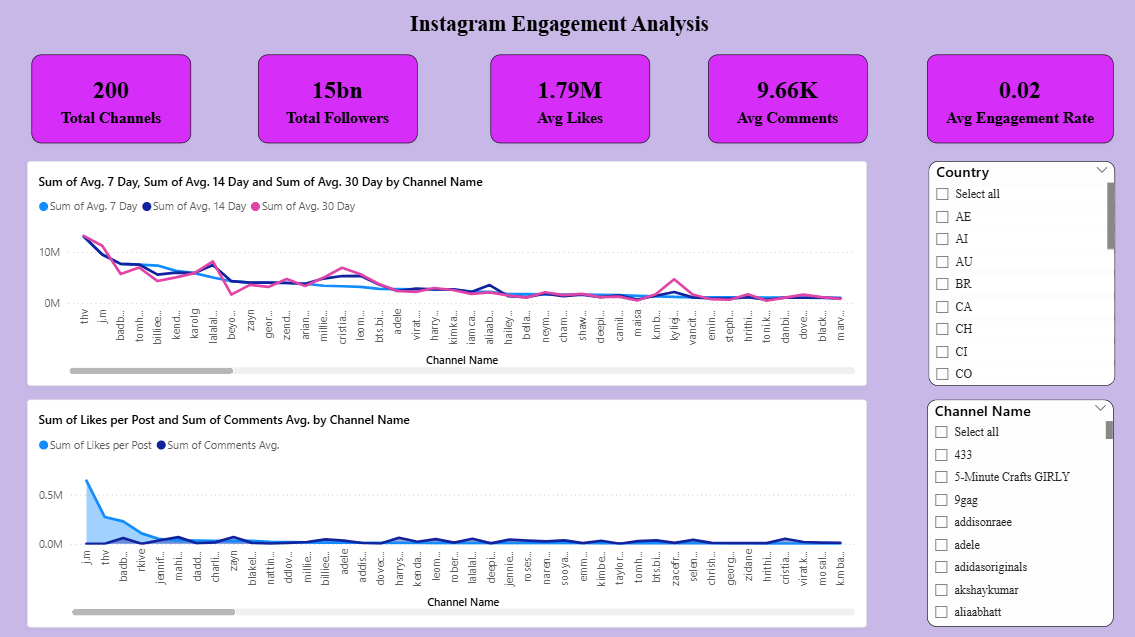

The dashboard page shown, as its layout file describes it:
{"tool":"powerbi","page":{"name":"Page 2","canvas":[1280,720],"ordinal":1},"visuals":[{"type":"lineChart","fields":{"Category":["Instagram_data.Channel Name"],"Y":["Sum(Instagram_data.Avg. 7 Day)","Sum(Instagram_data.Avg. 14 Day)","Sum(Instagram_data.Avg. 30 Day)"]},"box":[36.7,186.7,933.3,250],"z":0},{"type":"areaChart","fields":{"Category":["Instagram_data.Channel Name"],"Y":["Sum(Instagram_data.Likes per Post)","Sum(Instagram_data.Comments Avg.)"]},"box":[36.7,451.7,933.3,253.3],"z":1000},{"type":"slicer","fields":{"Values":["Instagram_data.Country"]},"box":[1038.7,186.2,207.4,249.8],"z":1001},{"type":"slicer","fields":{"Values":["Instagram_data.Channel Name"]},"box":[1037.2,451.2,207.4,252.9],"z":1002},{"type":"card","fields":{"Values":["Instagram_data.Total Channels"]},"box":[40.9,68.1,177.2,98.4],"z":1003},{"type":"card","title":"Folloers","fields":{"Values":["Instagram_data.Total Followers"]},"box":[293.8,68.1,177.2,98.4],"z":1004},{"type":"card","title":"Folloers","fields":{"Values":["Instagram_data.Avg Likes"]},"box":[551.2,68.1,177.2,98.4],"z":1005},{"type":"card","title":"Folloers","fields":{"Values":["Instagram_data.Avg Comments"]},"box":[793.4,68.1,177.2,98.4],"z":1006},{"type":"card","title":"Folloers","fields":{"Values":["Instagram_data.Avg Engagement Rate"]},"box":[1037.2,68.1,207.4,98.4],"z":1007},{"type":"textbox","box":[421.7,15,413.3,53.3],"z":1008}]}

Visuals, with their boxes in screenshot pixels (x1, y1, x2, y2), scaled from the page's 1280x720 canvas onto the 1135x637 screenshot:
lineChart - Instagram_data.Channel Name x Sum(Instagram_data.Avg. 7 Day): <bbox>33, 165, 860, 386</bbox>
areaChart - Instagram_data.Channel Name x Sum(Instagram_data.Likes per Post): <bbox>33, 400, 860, 624</bbox>
slicer - Instagram_data.Country: <bbox>921, 165, 1105, 386</bbox>
slicer - Instagram_data.Channel Name: <bbox>920, 399, 1104, 623</bbox>
card - Instagram_data.Total Channels: <bbox>36, 60, 193, 147</bbox>
"Folloers" card: <bbox>261, 60, 418, 147</bbox>
"Folloers" card: <bbox>489, 60, 646, 147</bbox>
"Folloers" card: <bbox>704, 60, 861, 147</bbox>
"Folloers" card: <bbox>920, 60, 1104, 147</bbox>
textbox: <bbox>374, 13, 740, 60</bbox>
